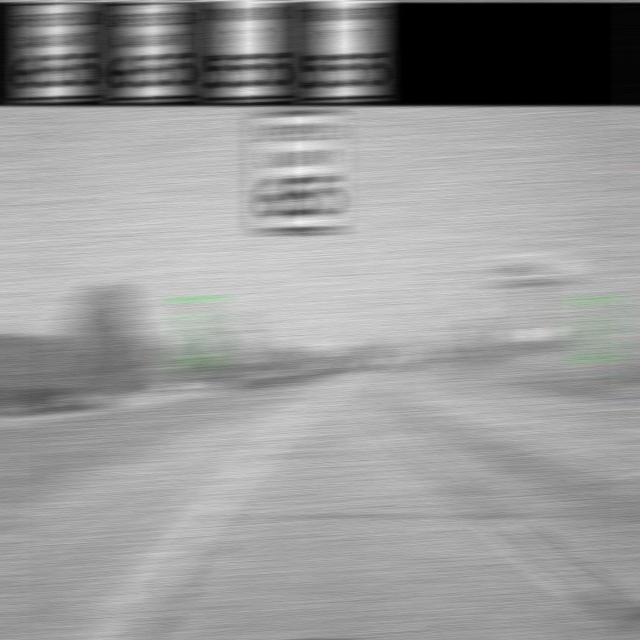speedLimit65: (256, 111, 342, 240), (17, 5, 98, 101), (119, 5, 190, 95)
